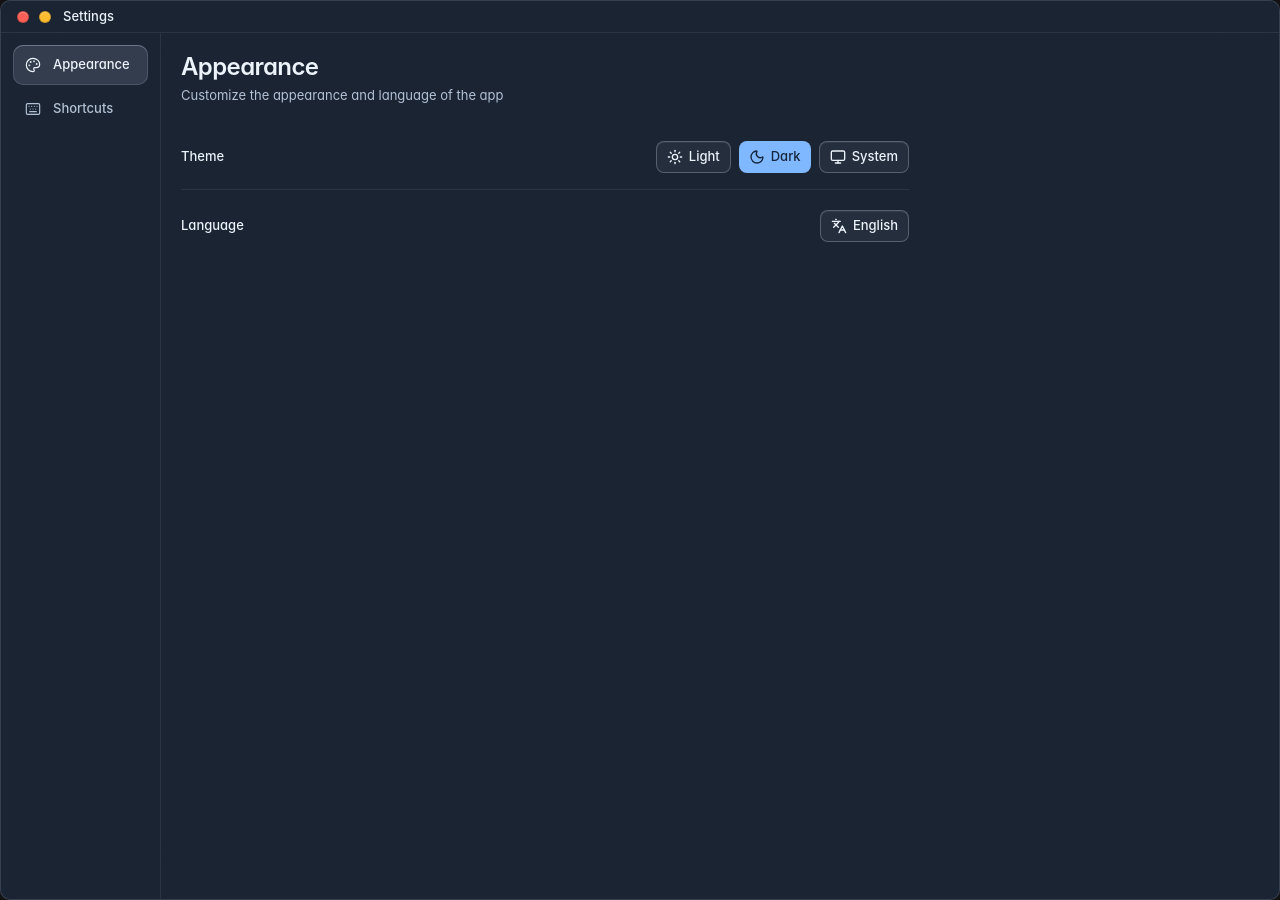
Test case: allows clearing a saved shortcut after startup restoration fails
Click the button "Shortcuts" at (80, 109), box [13, 89, 148, 129]
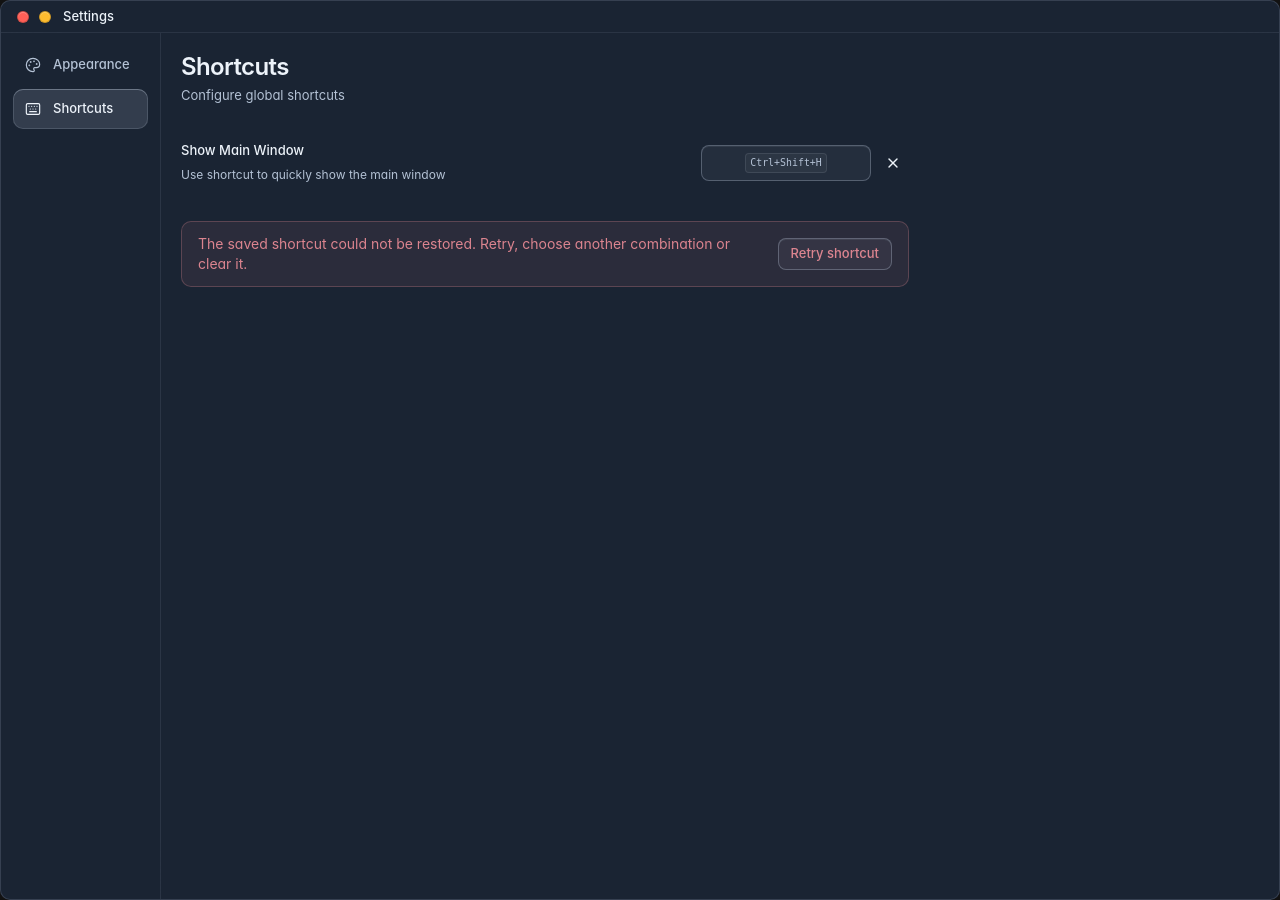
Now the message is shown, box [181, 220, 909, 286]
Click the button named "Clear shortcut" at (893, 163), box [877, 147, 909, 179]
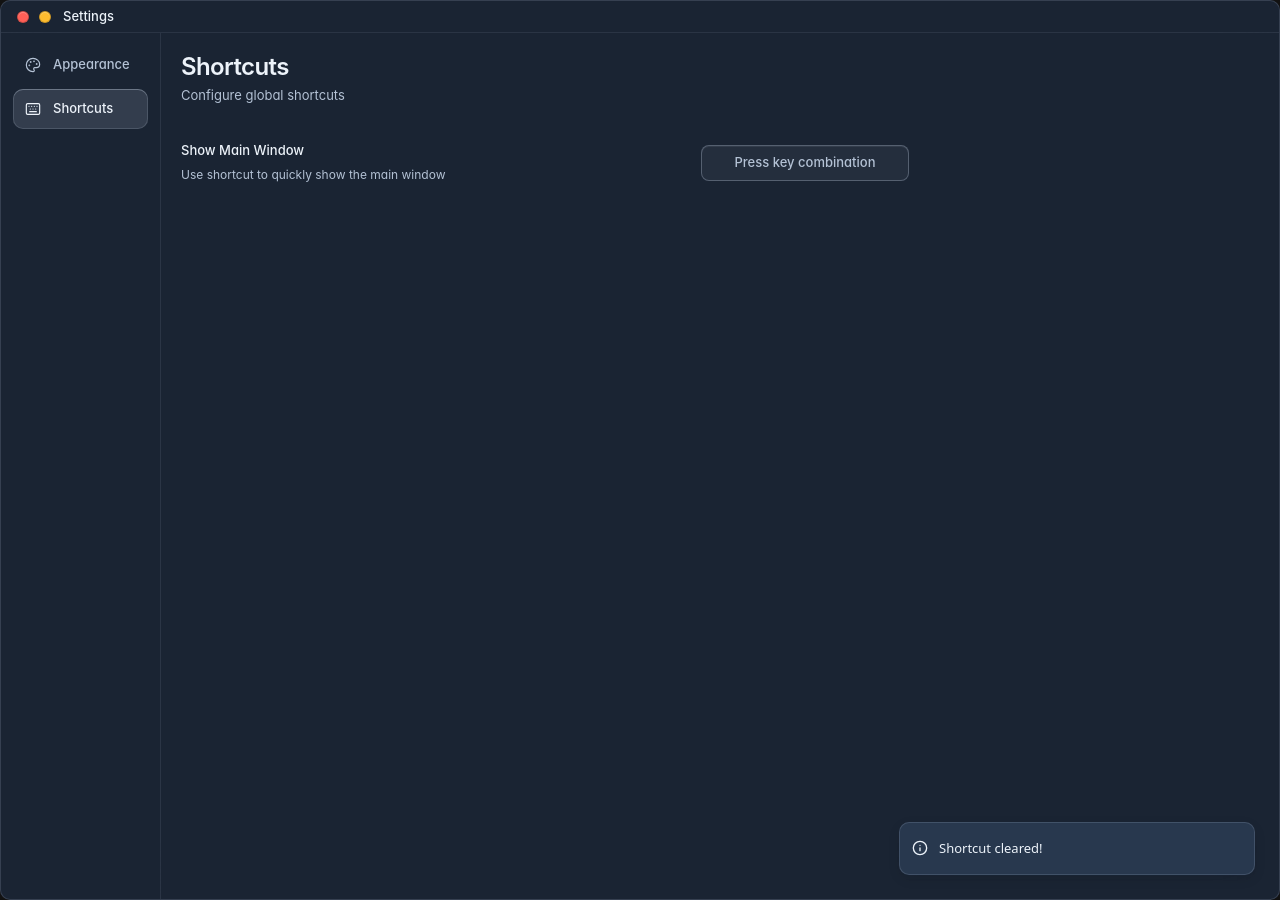
Now the message is gone
